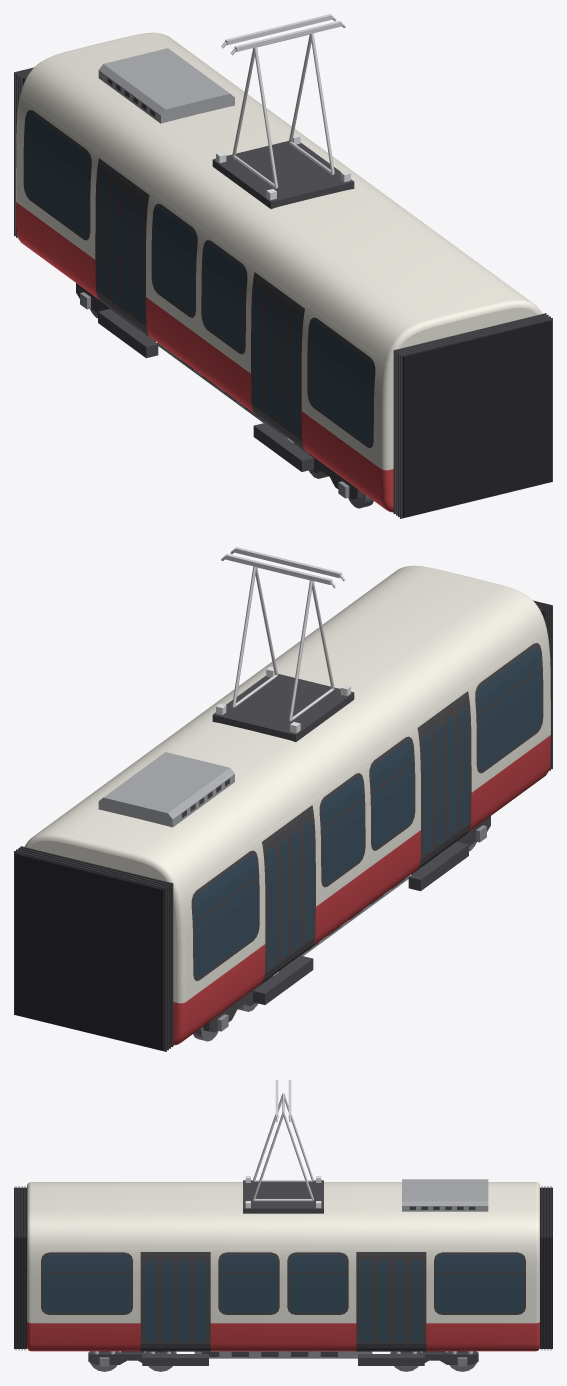
File: middle_3_close.fbx
The picture shows the model from 3 angles, top to bottom: view 1: azimuth 30°, elevation 25°; view 2: azimuth 150°, elevation 25°; view 3: azimuth 270°, elevation 25°; orthographic projection. The views are drawn at different scales.
Visible parts, largest first — view 1: 14_middle_3_close; view 2: 14_middle_3_close; view 3: 14_middle_3_close.
Boxes of the visible parts, x1,y1,x2,y2 form: 14_middle_3_close: (14,14,552,518); 14_middle_3_close: (14,547,552,1051); 14_middle_3_close: (14,1080,552,1371).
Bounding box in the file's own units: 2.53 × 5.21 × 10.
